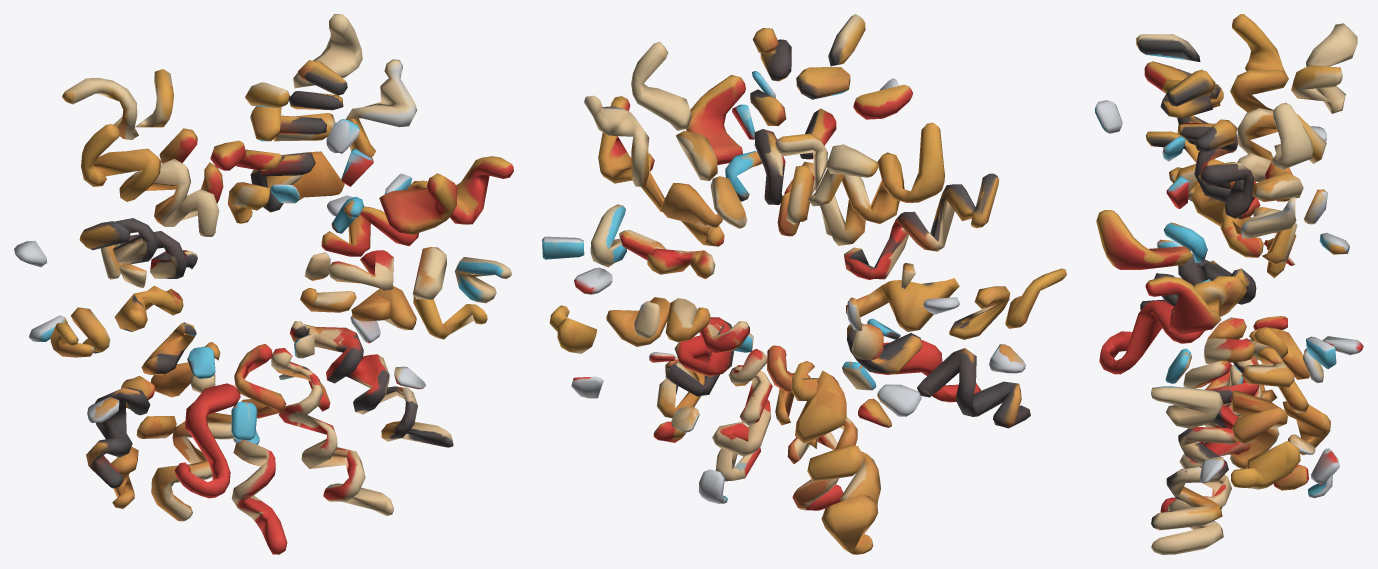
The model's file is confetti.glb.
3 renders of one model, left to right at view 1: azimuth 30°, elevation 25°; view 2: azimuth 150°, elevation 25°; view 3: azimuth 270°, elevation 25°, orthographic.
Parts seen in each view (by area): view 1: Celebration burst; view 2: Celebration burst; view 3: Celebration burst.
Boxes of the visible parts, x1,y1,x2,y2 form: Celebration burst: (14,14,513,554); Celebration burst: (542,14,1066,554); Celebration burst: (1095,14,1363,554).
Bounding box in the file's own units: 0.998 × 0.9824 × 0.498.
Materials: 1 (1 with a texture image).
